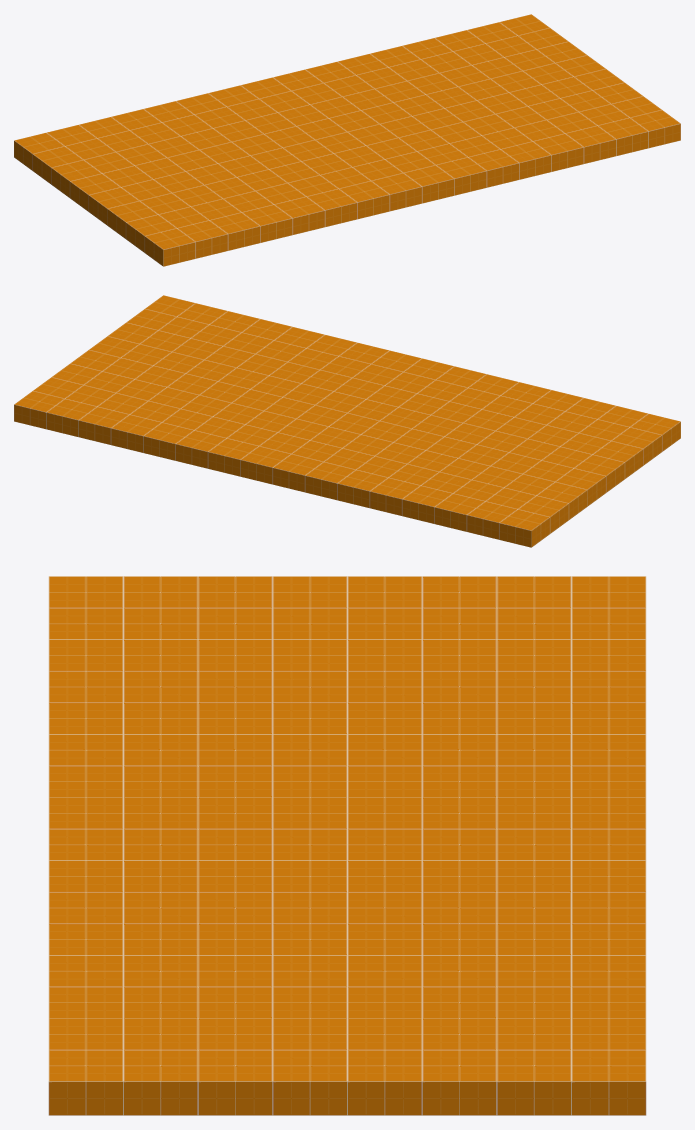
The model's file is Plate2_16x8.obj.
3 views of the same model, one above another, from view 1: azimuth 30°, elevation 25°; view 2: azimuth 150°, elevation 25°; view 3: azimuth 270°, elevation 25° (orthographic). The views are drawn at different scales.
Parts seen in each view (by area): view 1: Plate2_16x8_Cube.319; view 2: Plate2_16x8_Cube.319; view 3: Plate2_16x8_Cube.319.
Boxes of the visible parts, <box> form: Plate2_16x8_Cube.319: <box>14,14,680,266</box>; Plate2_16x8_Cube.319: <box>14,295,680,547</box>; Plate2_16x8_Cube.319: <box>48,576,646,1115</box>.
Size of the model in its own units: 16 by 0.5 by 8.
1 material, 1 textured.
